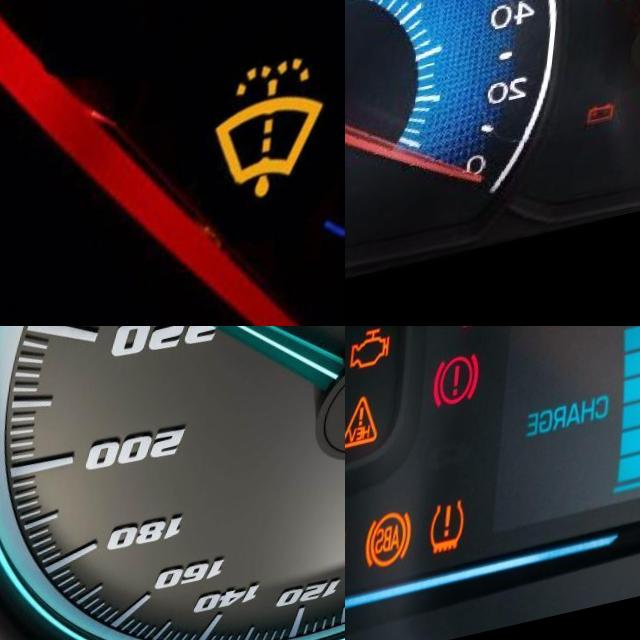Seat Belt: (461, 326, 496, 349)
